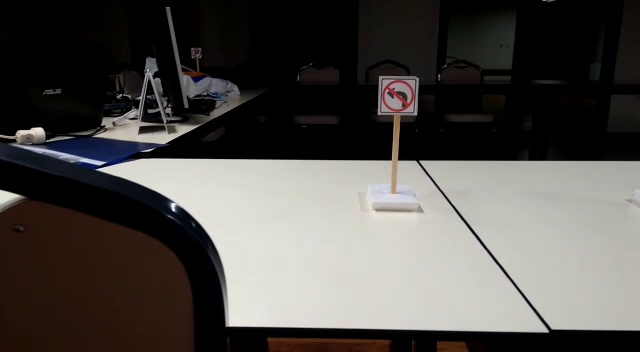sola_donulmez: (378, 75, 419, 117)
